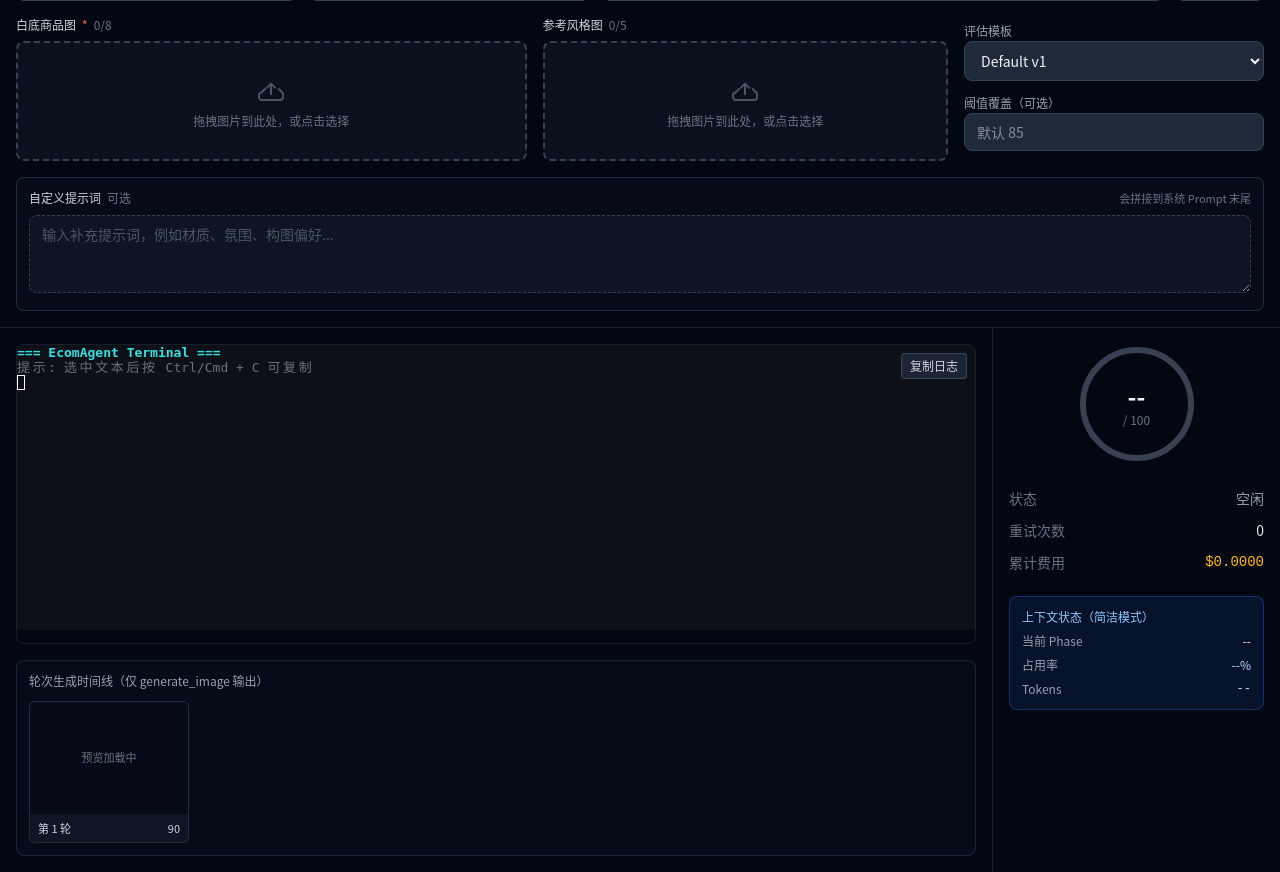
Test case: TaskRun round preview timeline › shows placeholders instead of file:// fallback when preview DataURL is unavailable
(page scrolled)
Check: the text "预览加载中" is shown, box [30,702,188,814]
Click the button with aria-label "Open round 1 preview" at (109, 772), box [29,700,189,843]
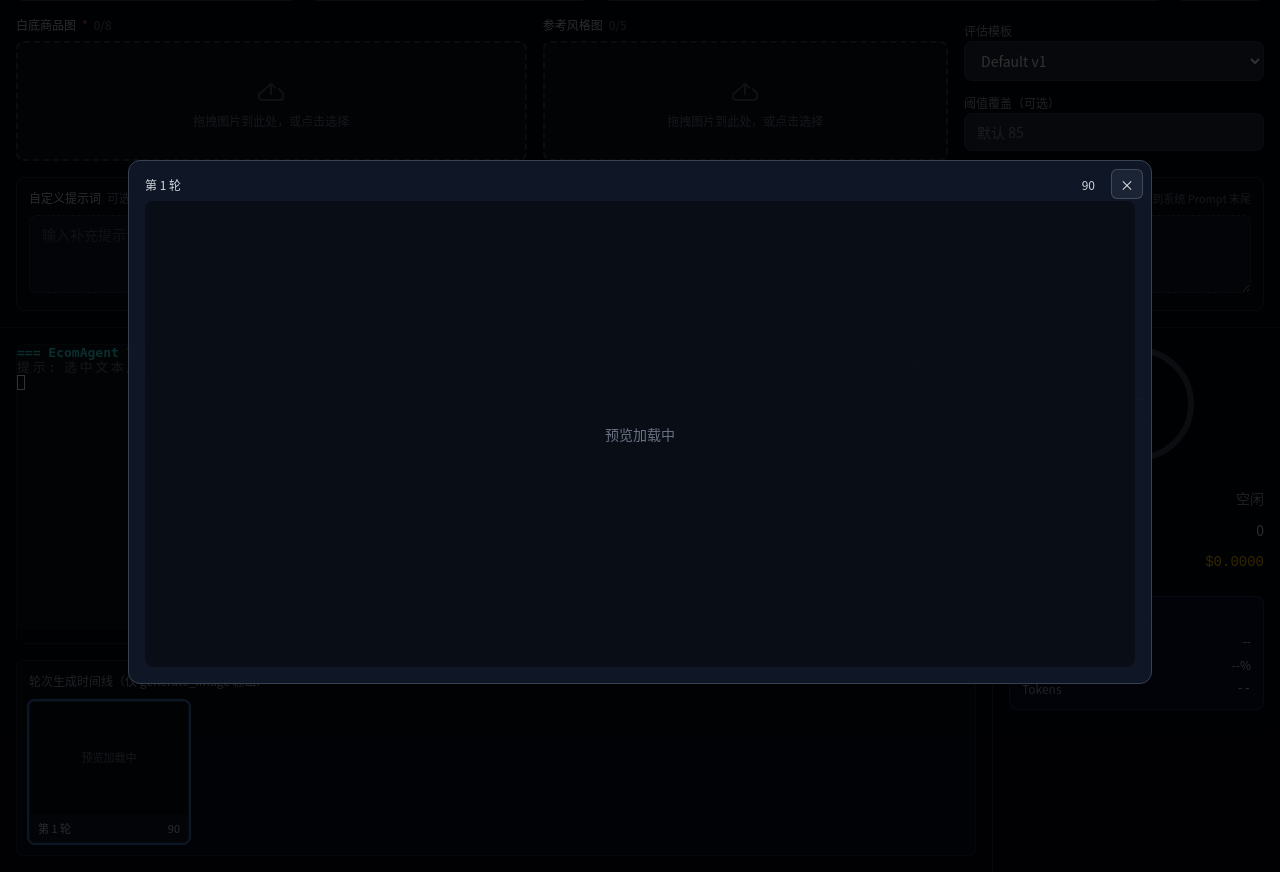
Check: the text "预览加载中" is shown, box [605,424,675,444]
